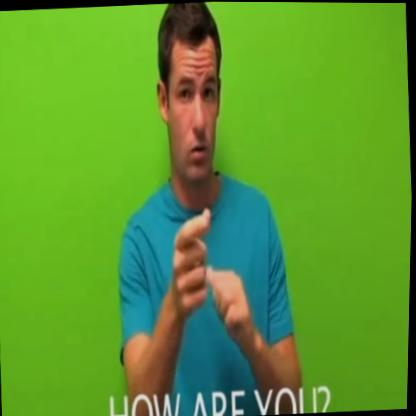HowAreYou: (163, 215, 264, 344)
